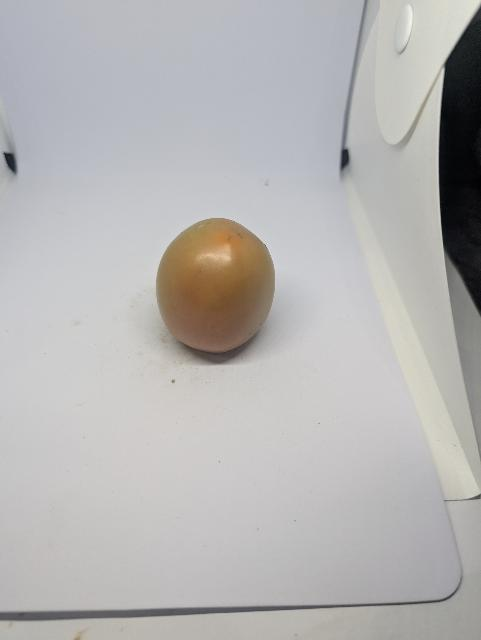turning: (147, 217, 288, 367)
